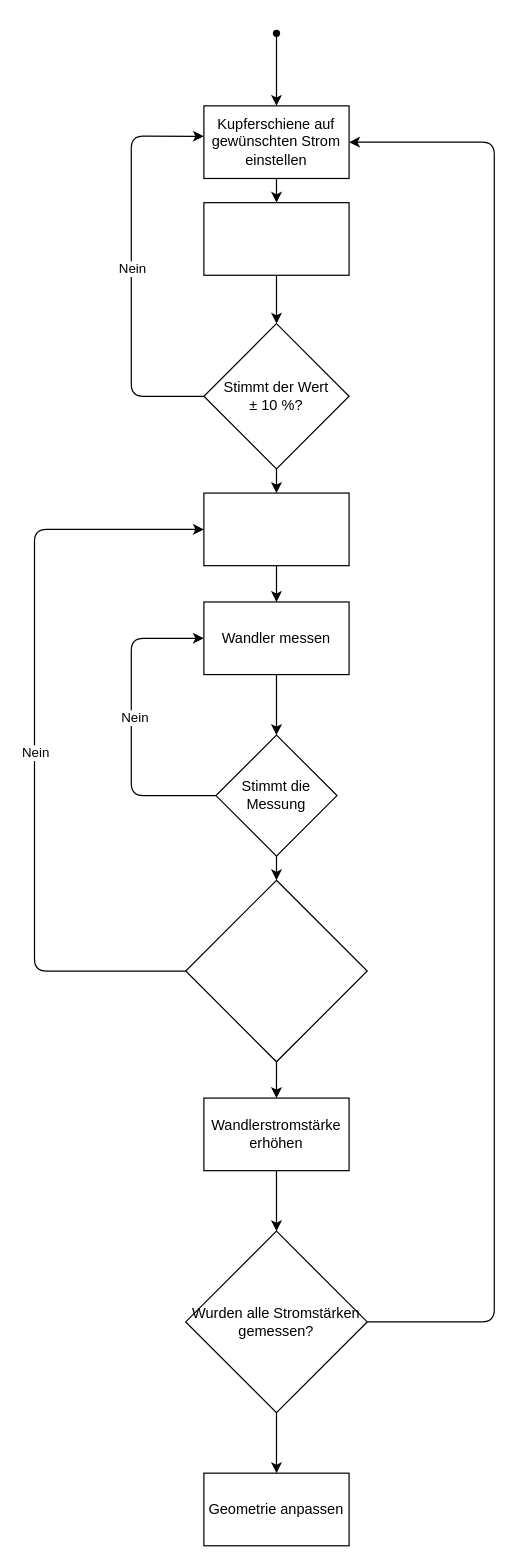
Some shapes in this 525 by 1567 pixel diagram are drawn without their labels. Here are the shapes that lost their labels. From the top down, the centre of each, then its label:
pixel 276 238: Testmessung
pixel 276 529: Wandler einbauen von derselben Stromstärke
pixel 276 970: Sind alle Wandler von derselben Stromstärke gemessen?
